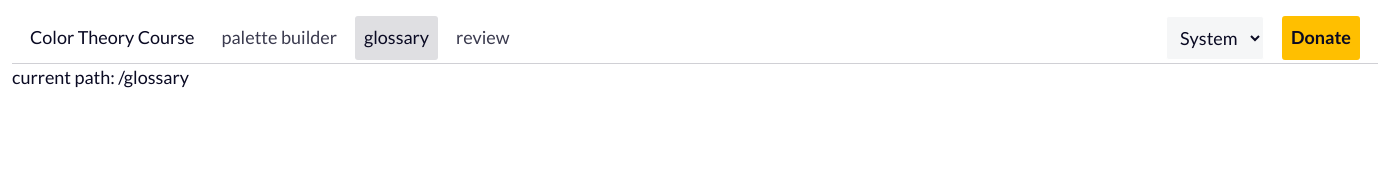
Scenario: TopNav › navigates with desktop links and marks the current page
The width and height of the screenshot is (1378, 172).
Click the link "palette builder" at (279,37), box 222,26 -> 337,48
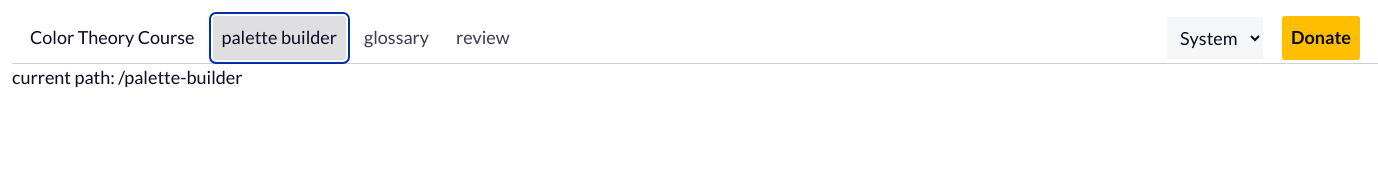
Expected: the text "current path: /palette-builder" is shown, 12,66 -> 242,88
